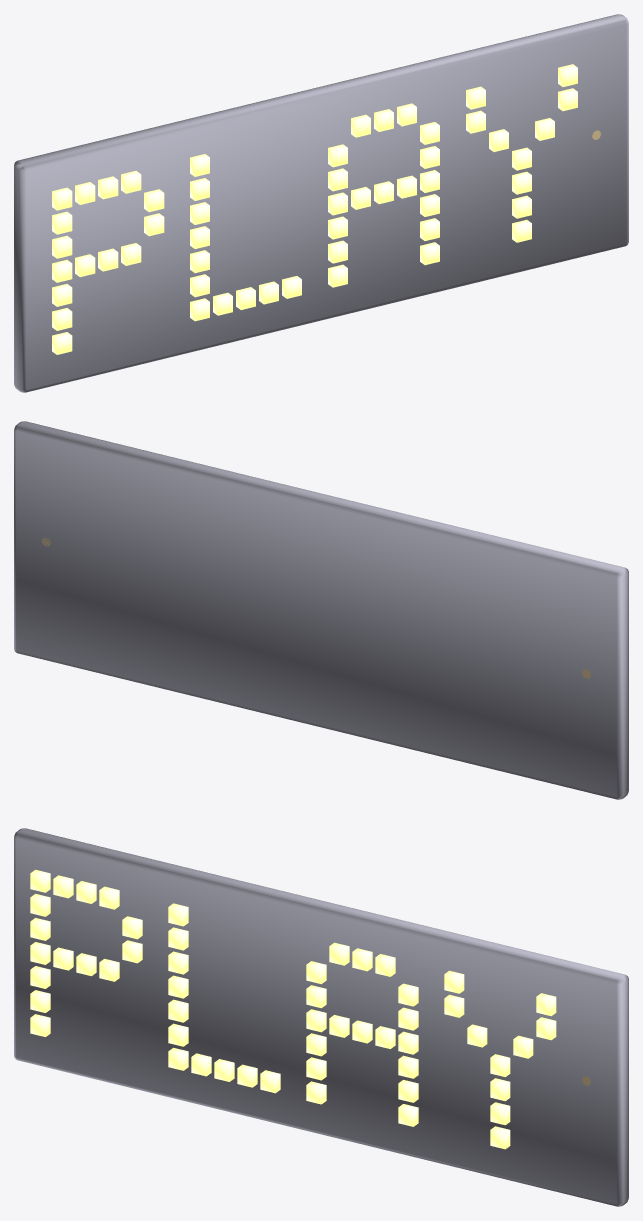
The model's file is neon_play.glb.
3 renders of one model, top to bottom at view 1: azimuth 30°, elevation 25°; view 2: azimuth 150°, elevation 25°; view 3: azimuth 330°, elevation 25°, orthographic.
Parts seen in each view (by area): view 1: Neon backer, Neon amber; view 2: Neon backer; view 3: Neon backer, Neon amber.
Part boxes in pixels (x1,y1,x2,y2): Neon backer: [14, 14, 628, 392]; Neon amber: [52, 64, 577, 354]; Neon backer: [14, 421, 628, 799]; Neon backer: [14, 828, 628, 1206]; Neon amber: [30, 869, 556, 1149].
Bounding box in the file's own units: 1.06 × 0.38 × 0.055.
